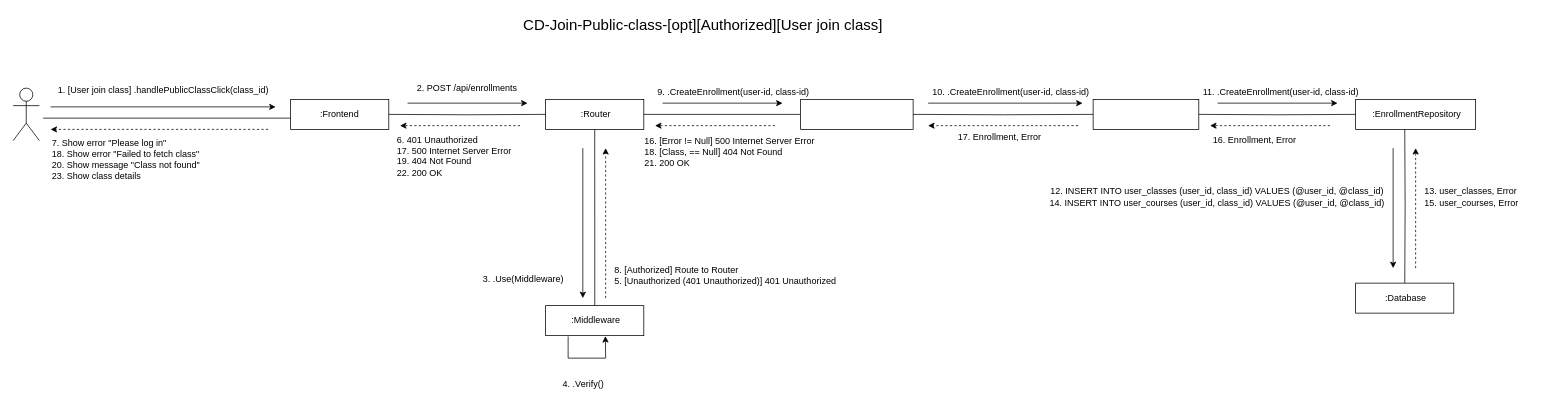
This 1549x408 diagram has some shape labels left out. The box of each missing label's shape, as (x1, y1, x2, y2) in pixels:
:EnrollmentController: (800, 99, 913, 129)
:EnrollmentService: (1092, 99, 1199, 129)
User: (12, 87, 39, 141)
